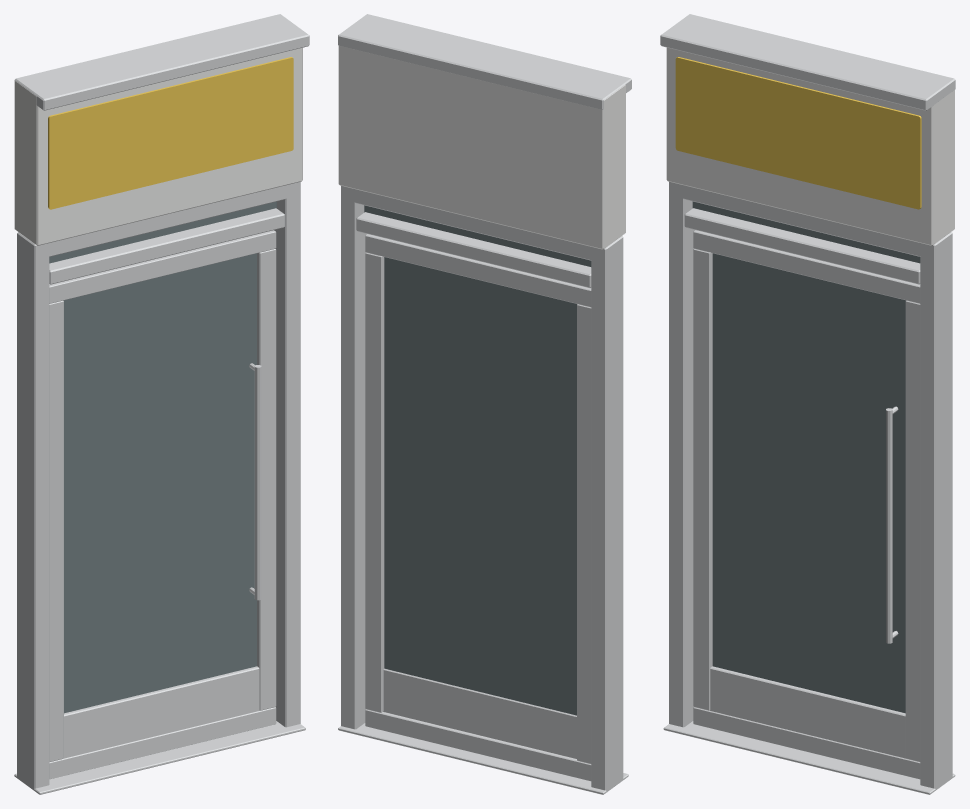
Rendered from laundrette-and-cleaning-shopfront-door-module-dbed900d__25555.glb.
3 renders of one model, left to right at view 1: azimuth 30°, elevation 25°; view 2: azimuth 150°, elevation 25°; view 3: azimuth 330°, elevation 25°, orthographic.
Parts seen in each view (by area): view 1: shopfront-door-module, door/glass, door/metal; view 2: shopfront-door-module, door/glass, door/metal; view 3: shopfront-door-module, door/glass, door/metal.
Part boxes in pixels (left/top/right/bottom): shopfront-door-module: left=14, top=14, right=309, bottom=794; door/glass: left=63, top=253, right=256, bottom=713; door/metal: left=49, top=230, right=276, bottom=779; shopfront-door-module: left=338, top=14, right=631, bottom=794; door/glass: left=384, top=257, right=576, bottom=715; door/metal: left=365, top=234, right=591, bottom=781; shopfront-door-module: left=660, top=14, right=955, bottom=794; door/glass: left=712, top=253, right=905, bottom=713; door/metal: left=693, top=230, right=920, bottom=779.
Bounding box in the file's own units: 1.2 × 3 × 0.2301.
